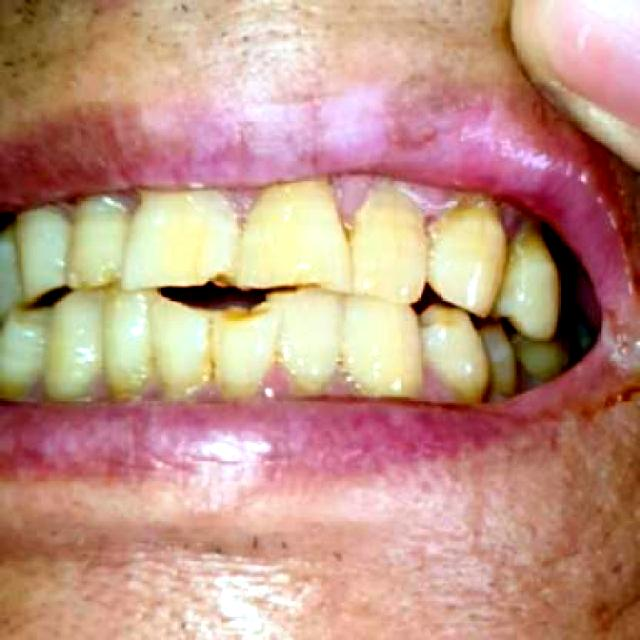Plaque: (121, 362, 477, 408), (13, 365, 118, 406), (497, 210, 533, 251)
